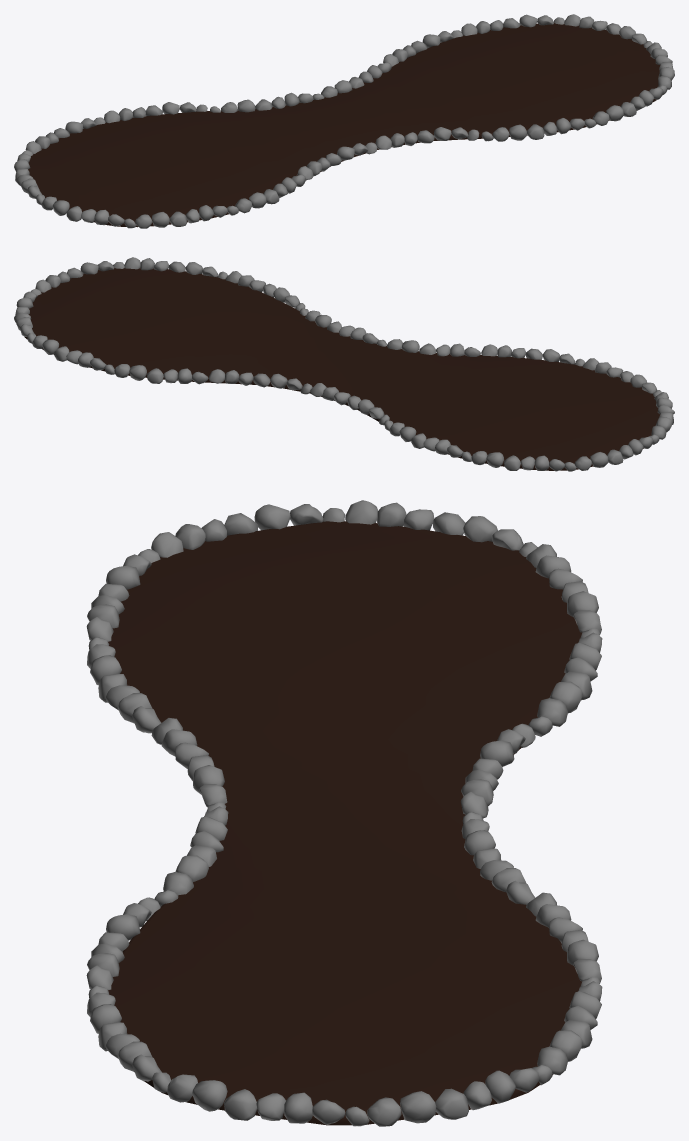
Rendered from SM_flowerbed_large.fbx.
3 views of the same model, one above another, from view 1: azimuth 30°, elevation 25°; view 2: azimuth 150°, elevation 25°; view 3: azimuth 270°, elevation 25° (orthographic). The views are drawn at different scales.
Parts seen in each view (by area): view 1: Plane292; view 2: Plane292; view 3: Plane292.
Part boxes in pixels (left/top/right/bottom): Plane292: left=14, top=14, right=674, bottom=228; Plane292: left=14, top=257, right=674, bottom=471; Plane292: left=86, top=500, right=602, bottom=1126.
Size of the model in its own units: 381 by 8.27 by 137.
